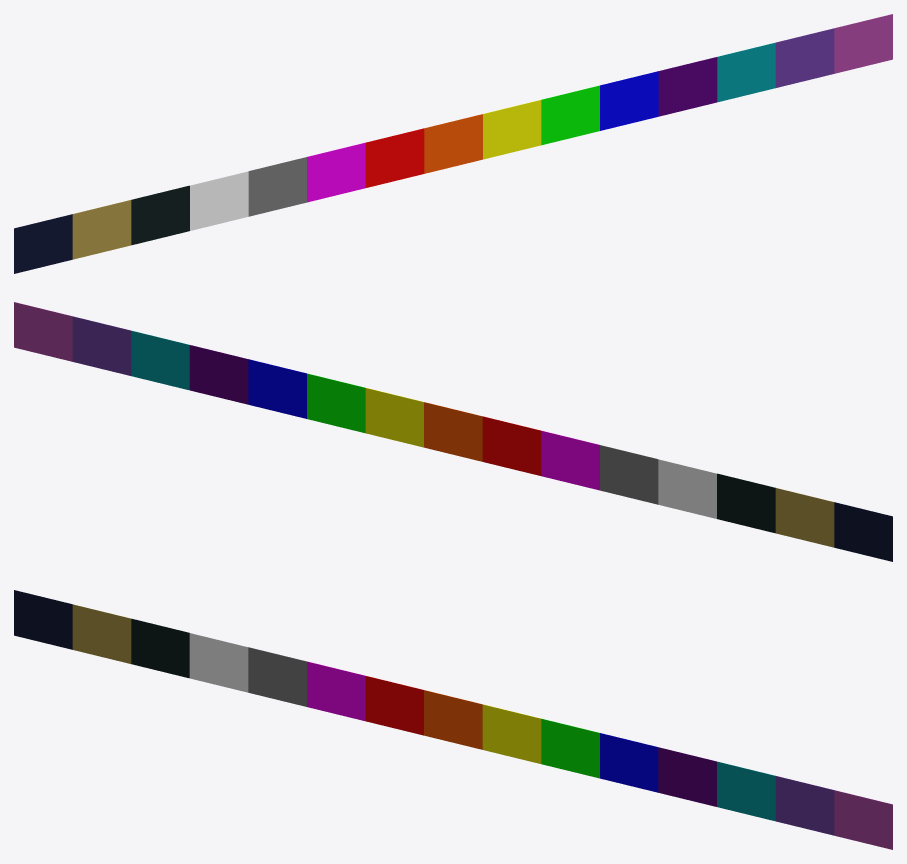
File: boxTest2.obj
The picture shows the model from 3 angles, top to bottom: view 1: azimuth 30°, elevation 25°; view 2: azimuth 150°, elevation 25°; view 3: azimuth 330°, elevation 25°; orthographic projection.
Visible parts, largest first — view 1: pCube1; view 2: pCube1; view 3: pCube1.
Boxes of the visible parts, x1,y1,x2,y2 form: pCube1: [14, 14, 892, 273]; pCube1: [14, 302, 892, 561]; pCube1: [14, 590, 892, 849].
Bounding box in the file's own units: 1983 × 97.92 × 0.946.
